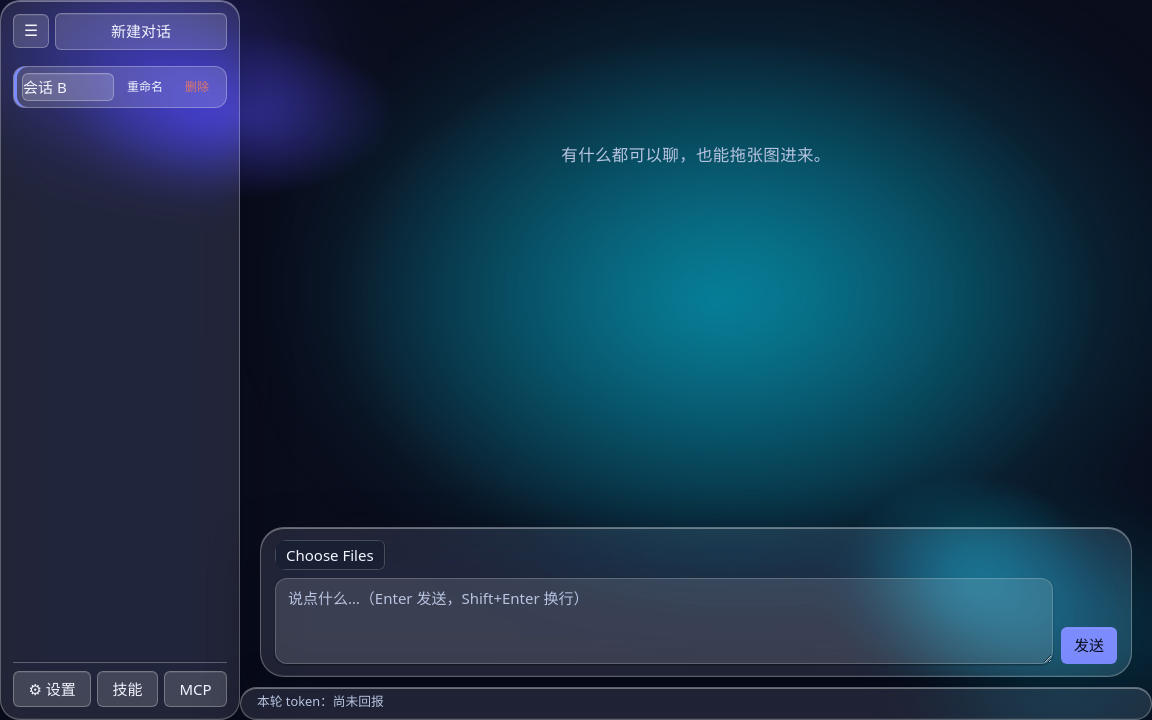
Test: App 设置接线 › re-reads settings when the panel opens, and does not drop the subscription
This screenshot has width=1152, height=720.
What coordinates should you click on to do the following:
click the button "⚙ 设置"
I would click on:
 (52, 689)
Its box is [13, 670, 91, 707].
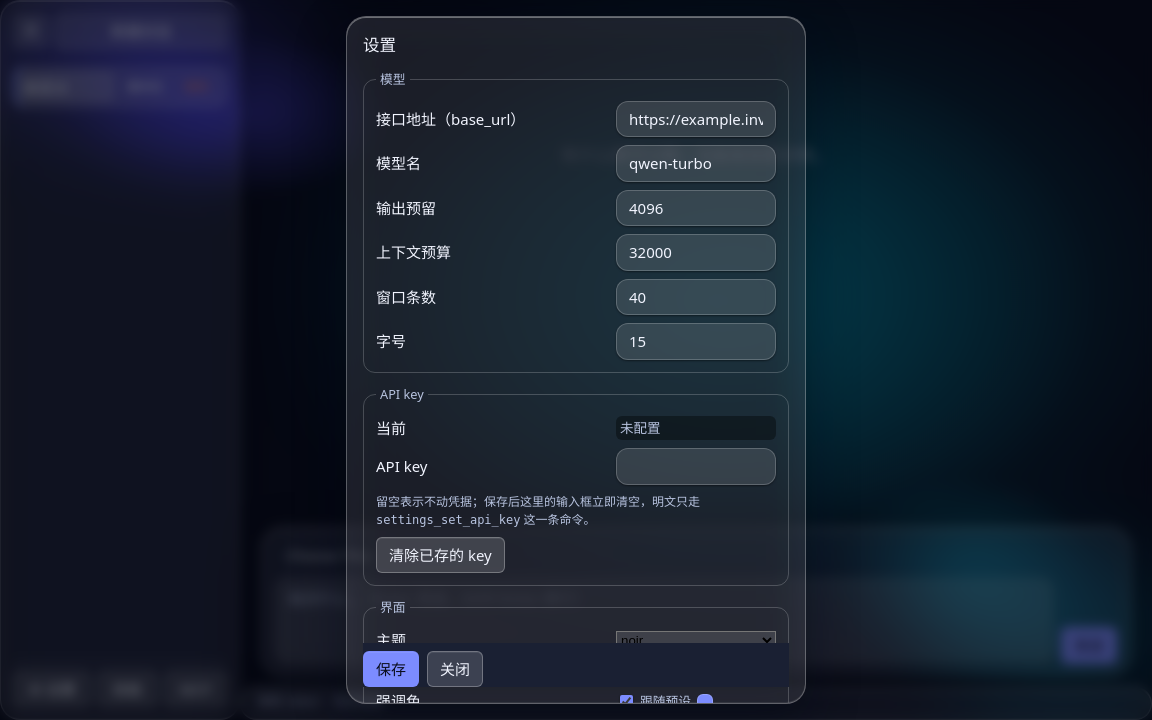
Result: the field labelled "模型名" holds "qwen-turbo" at [616, 145, 776, 182]
